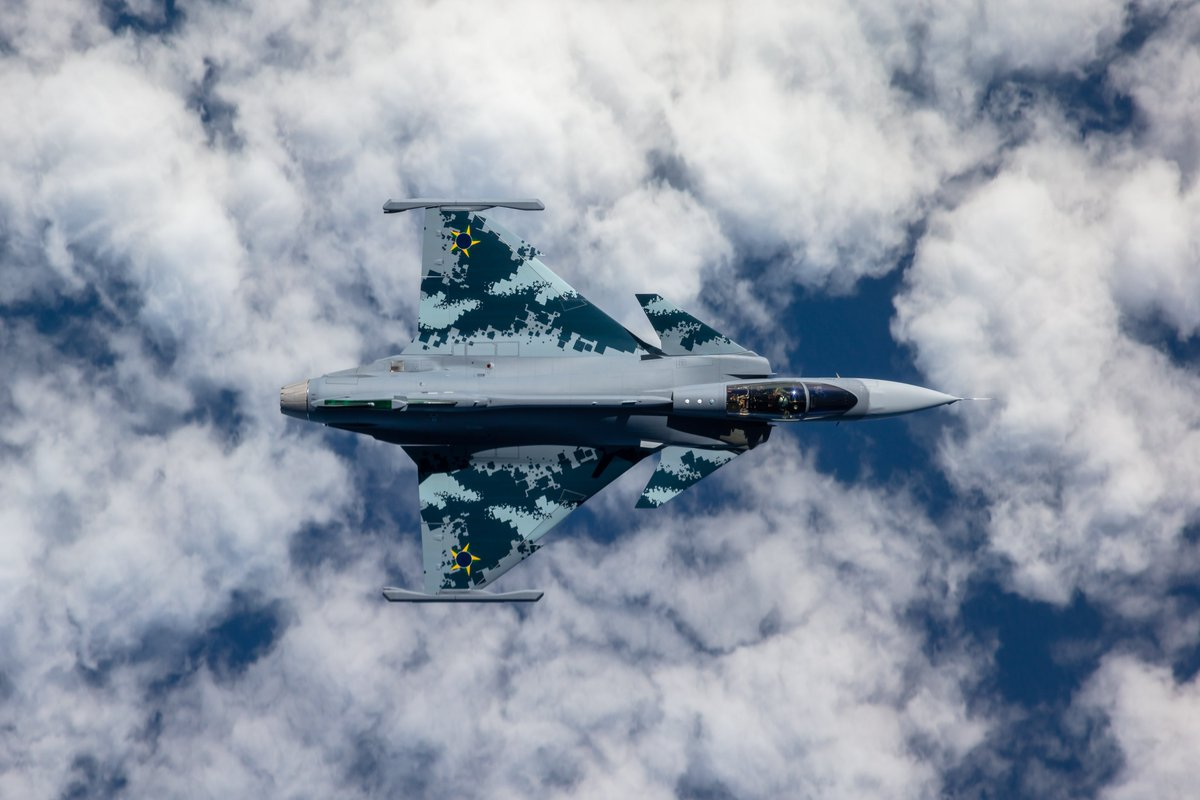JAS39: (280, 199, 997, 603)
